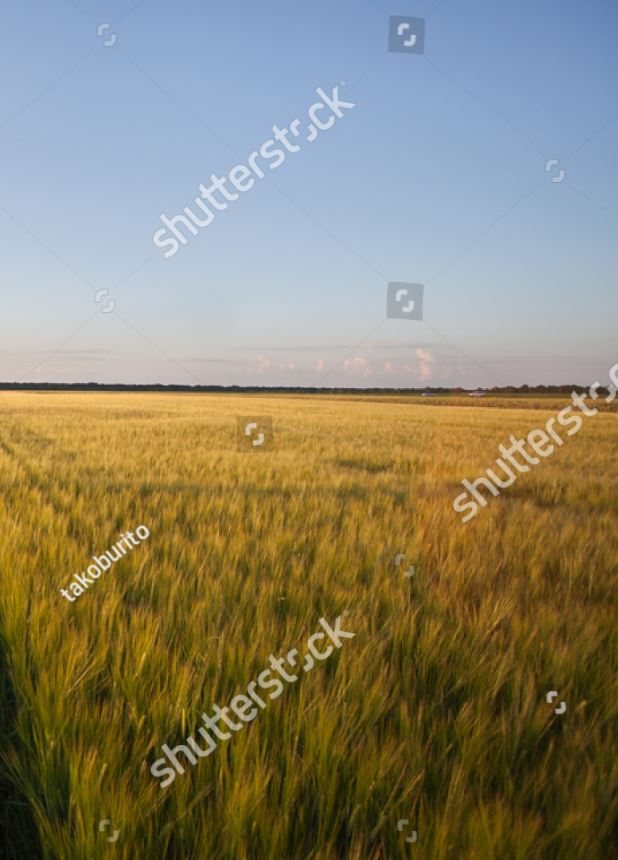Wheat: (388, 616, 533, 824)
